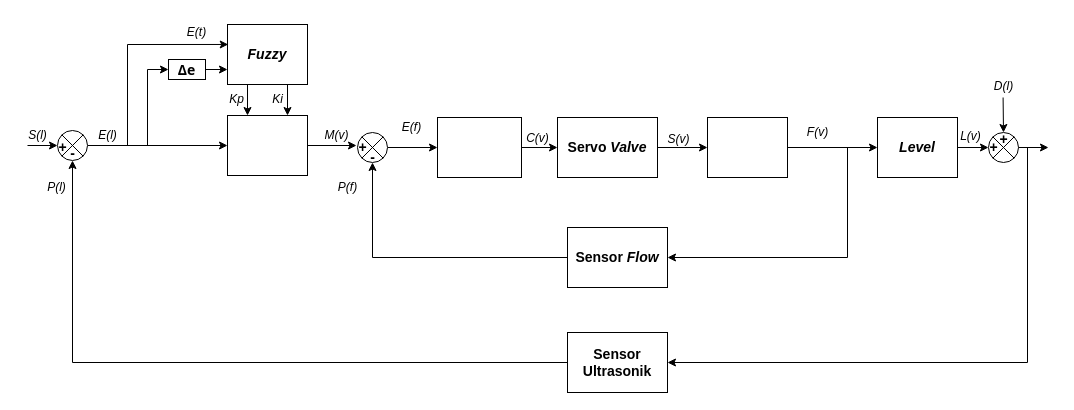
Some shapes in this 1074 by 410 pixel diagram are drawn without their labels. The box of each missing label's shape, as (x1, y1, x2, y2) in pixels:
Flow: (706, 116, 788, 178)
PI: (226, 114, 308, 176)
PID: (436, 116, 522, 178)
